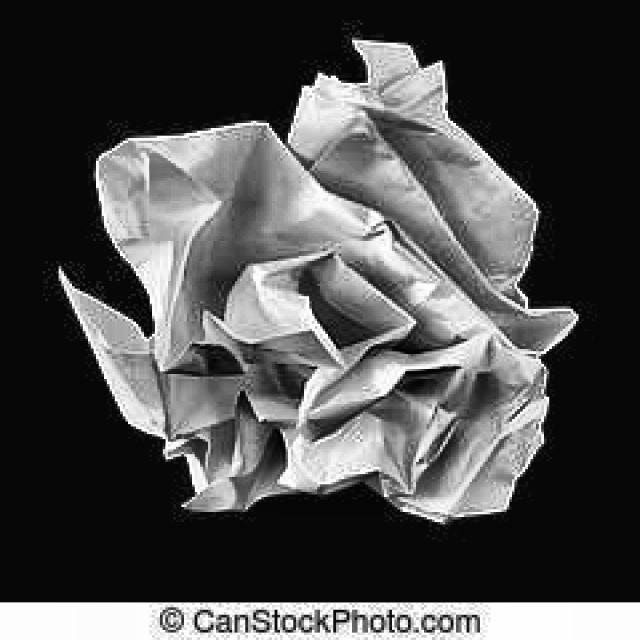Paper: (46, 31, 592, 530)
